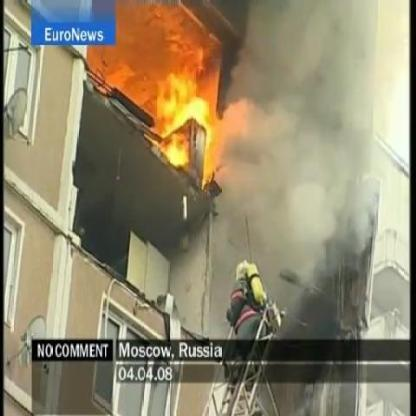fire: (146, 66, 215, 164)
